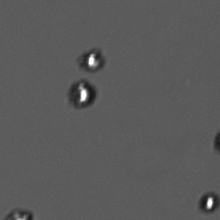Living Cell: (65, 77, 100, 109), (77, 48, 107, 74), (197, 191, 218, 212)
